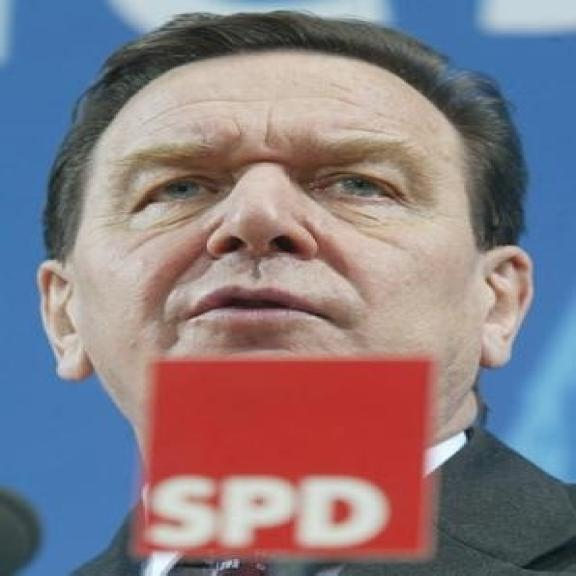face: (34, 30, 541, 446)
